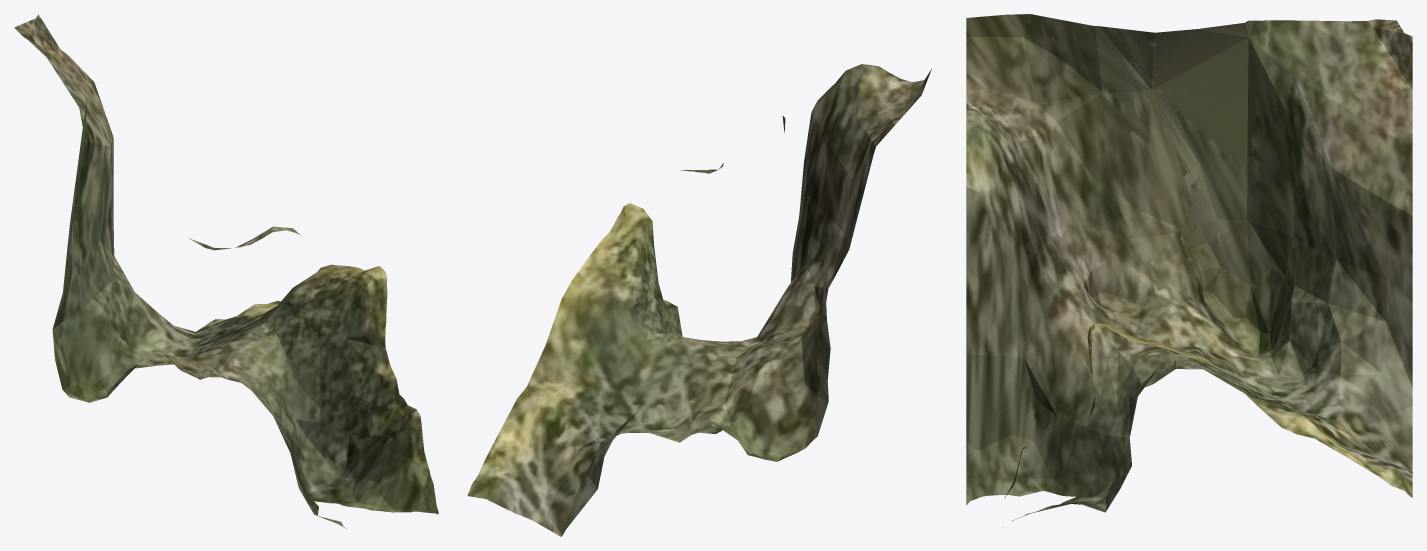
The picture shows the model from 3 angles, left to right: view 1: azimuth 30°, elevation 25°; view 2: azimuth 150°, elevation 25°; view 3: azimuth 270°, elevation 25°; orthographic projection. The views are drawn at different scales.
Size of the model in its own units: 1.99 by 2.95 by 2.95.
4 materials, 4 textured.
